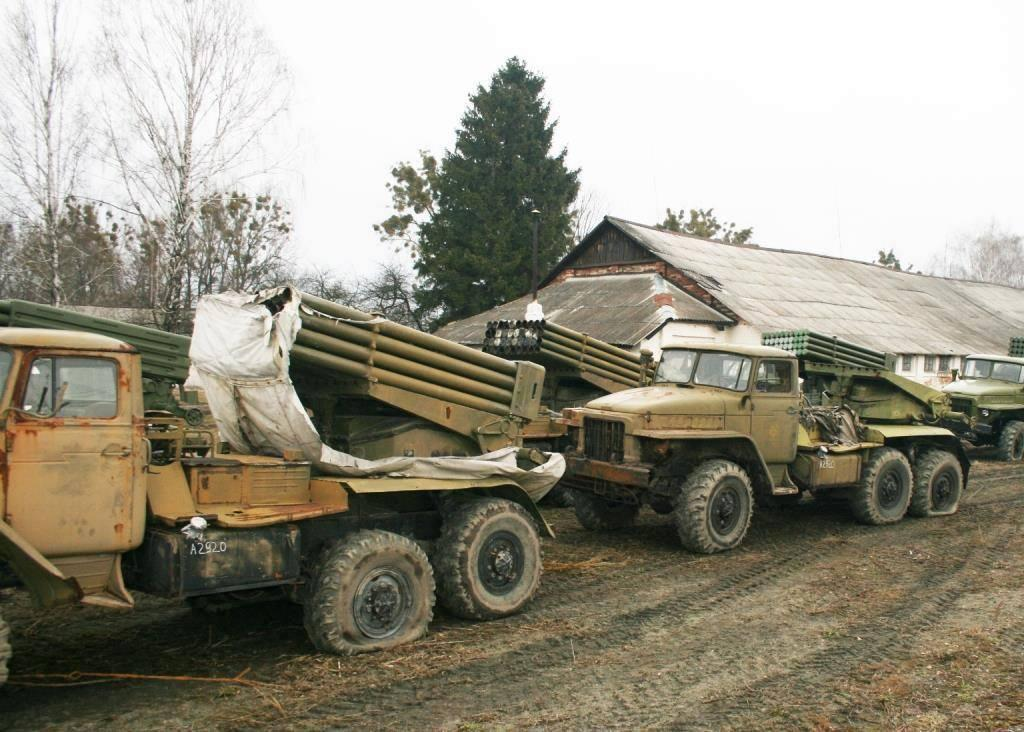rszo: (3, 278, 580, 633), (559, 310, 967, 548), (482, 303, 664, 462), (955, 324, 1024, 467)
